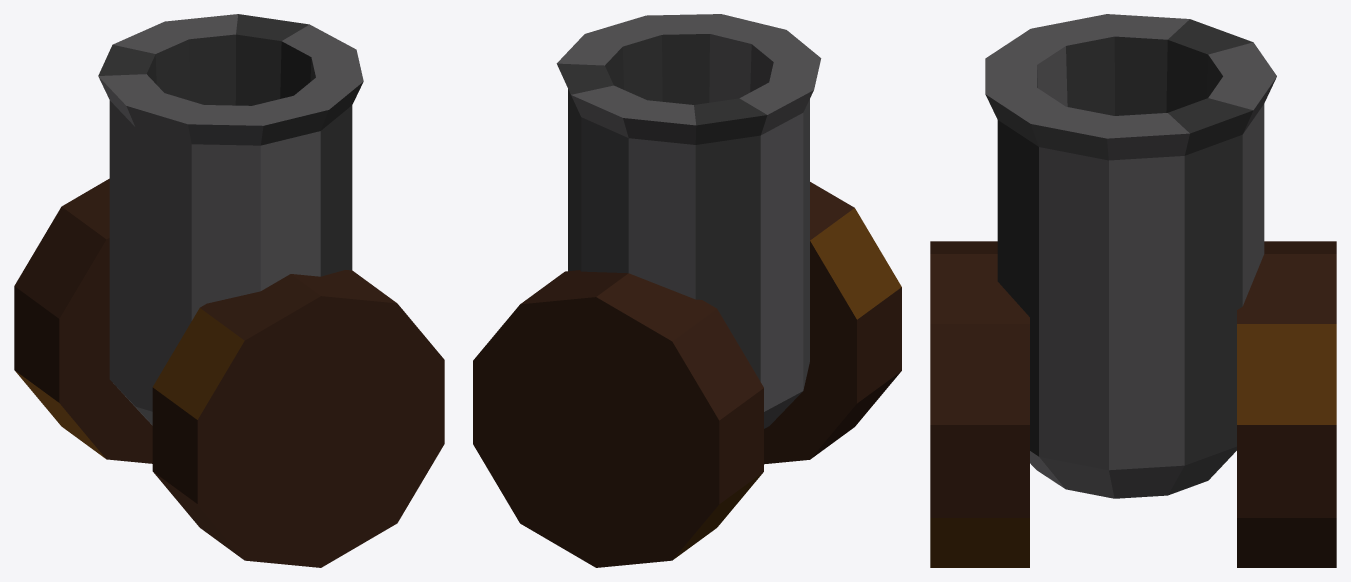
Rendered from cannon.glb.
3 views of the same model, side by side, from view 1: azimuth 30°, elevation 25°; view 2: azimuth 150°, elevation 25°; view 3: azimuth 270°, elevation 25° (orthographic). The views are drawn at different scales.
Visible parts, largest first — view 1: Cylinder; view 2: Cylinder; view 3: Cylinder.
Boxes of the visible parts, bbox=[...] form: Cylinder: bbox=[14, 14, 444, 567]; Cylinder: bbox=[473, 14, 901, 567]; Cylinder: bbox=[930, 14, 1336, 567].
Bounding box in the file's own units: 5.08 × 8.48 × 6.52.
